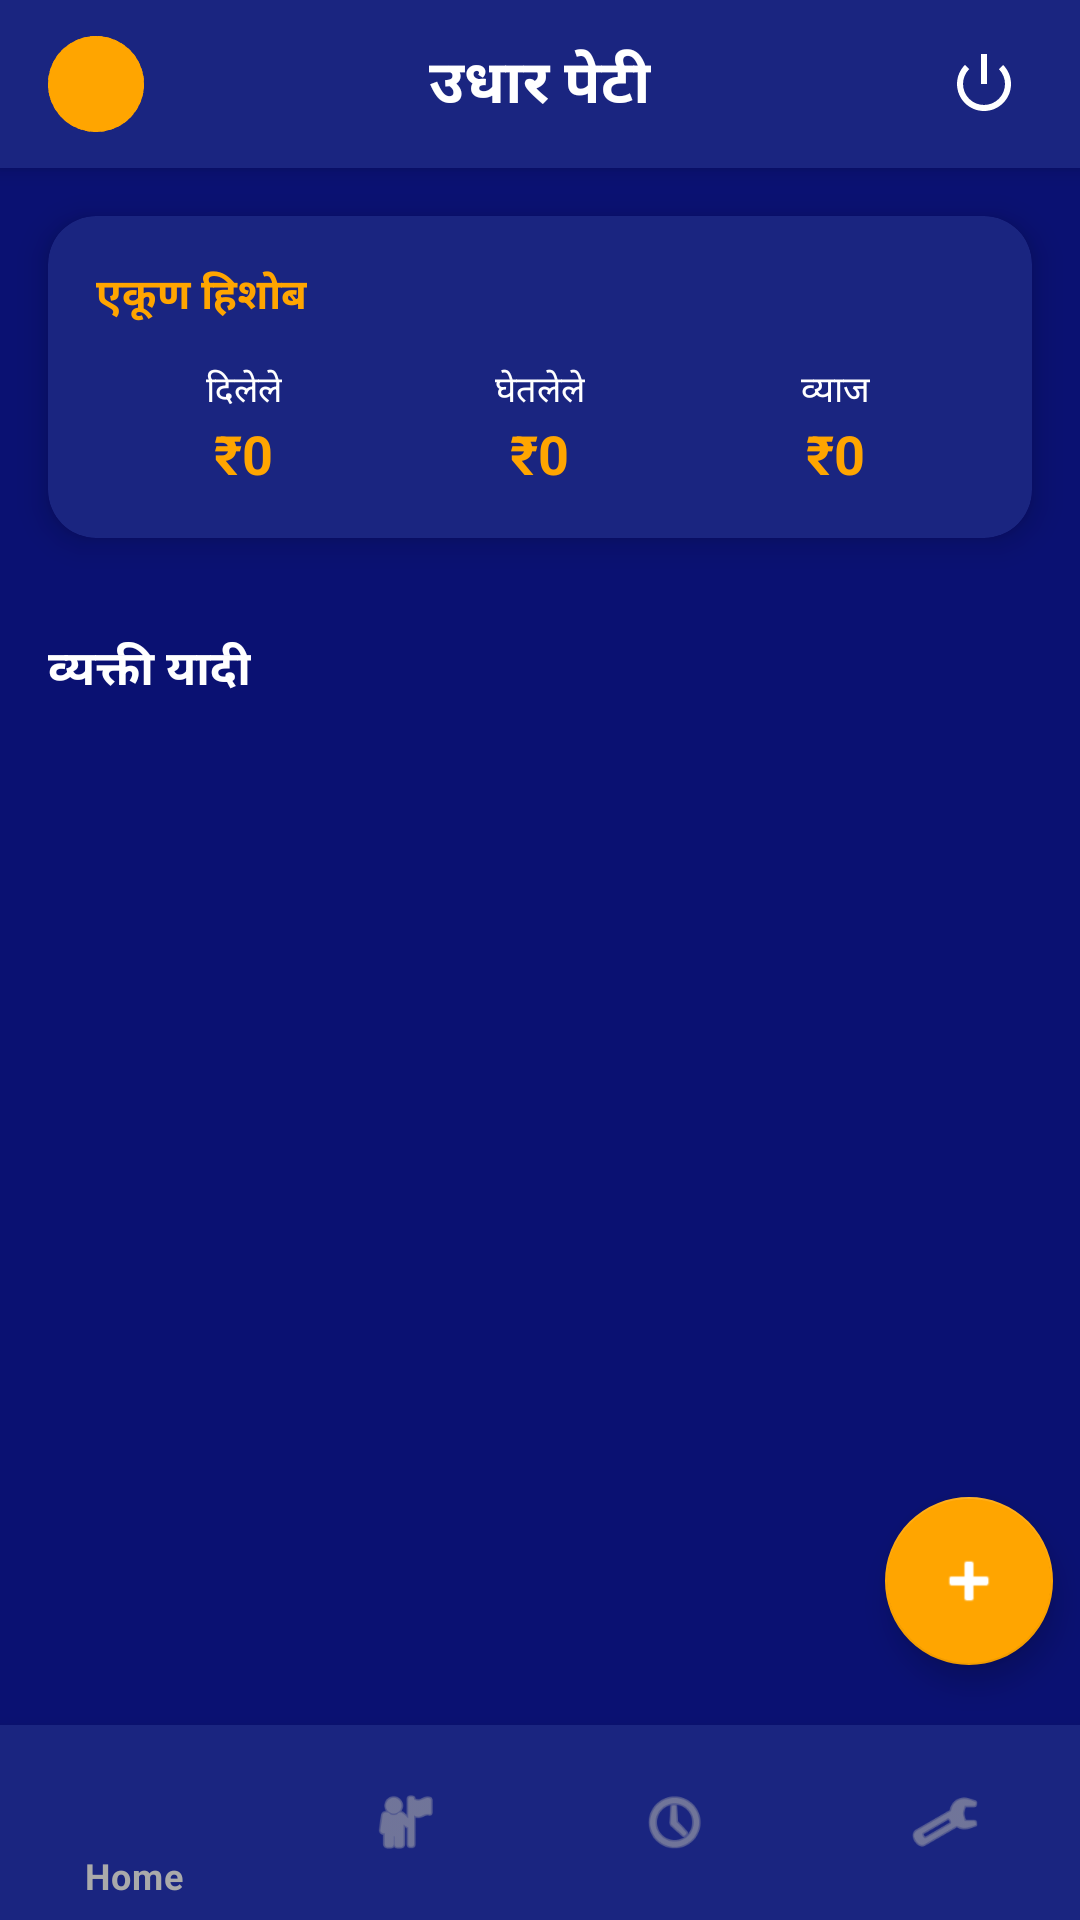

Icons on this 1080px×1920px Android screen, each with its box as (x1, y1, x2, y2):
add: (885, 1497, 1053, 1665)
lock power off: (957, 54, 1011, 111)
